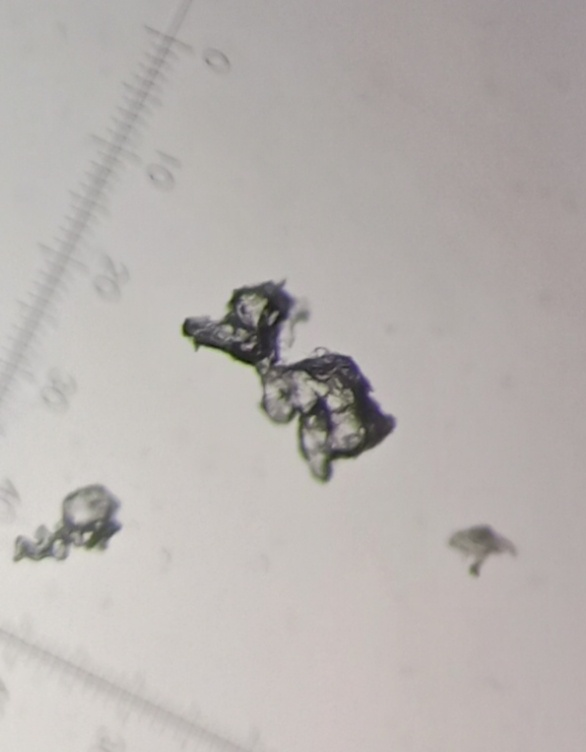microplastic: (175, 279, 407, 491), (10, 481, 123, 574), (446, 516, 518, 586)
